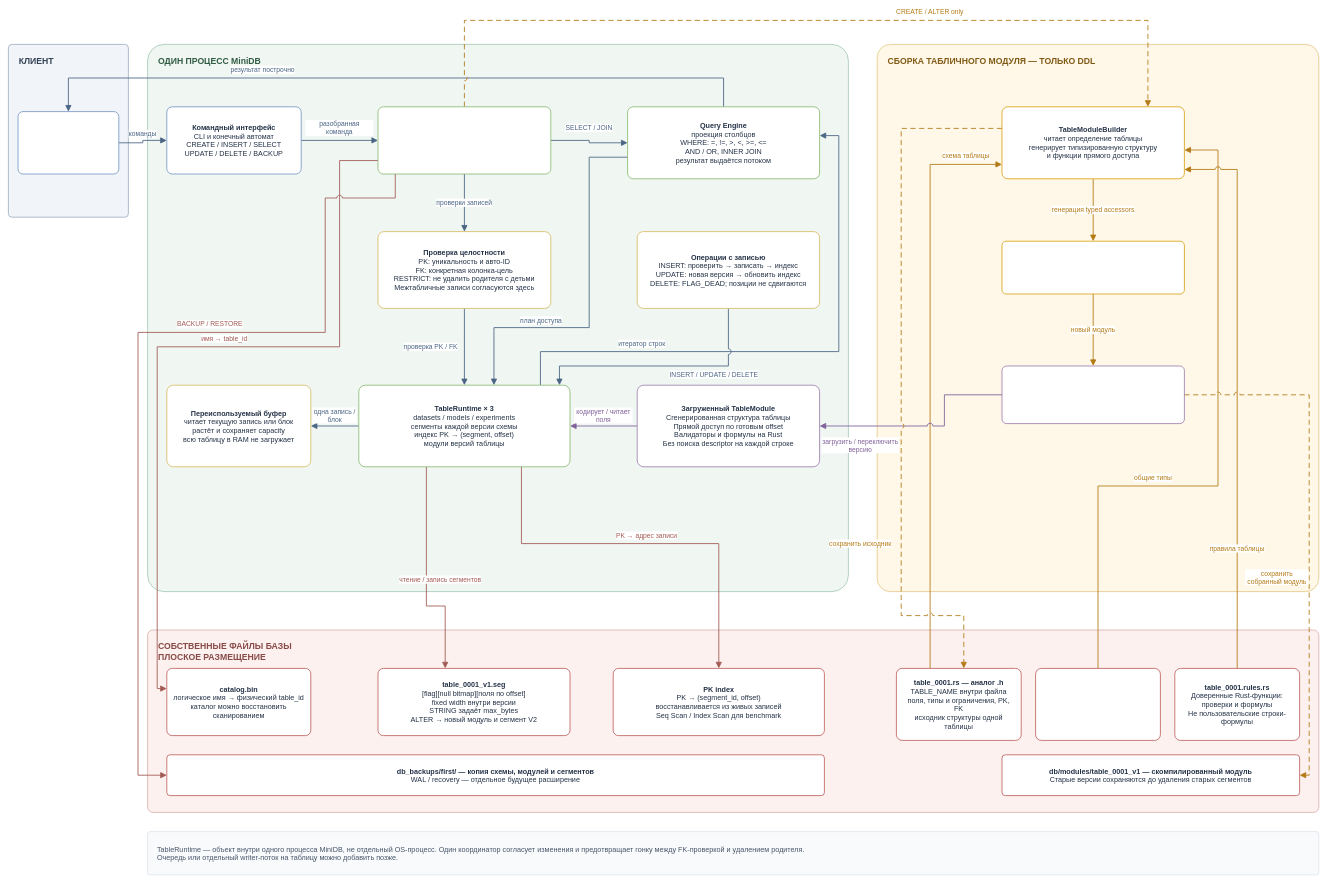
The diagram is 1328 pixels wide and 883 high, and some of its shapes have lost their labels. The centre of each missing label's shape, as x and y in pixels:
Database Coordinator каталог таблиц маршрутизация команд порядок изменений: (464,140)
rustc собирает только модуль таблицы основной MiniDB не пересобирается: (1093,267)
types.def общие именованные типы ограничения колонки переопределяют тип: (1098,704)
Нативный модуль версии V одна таблица / одна версия схемы хранится в db/modules/: (1093,394)
Пользователь / защита CLI или REPL Позже: UI / API: (68,142)
